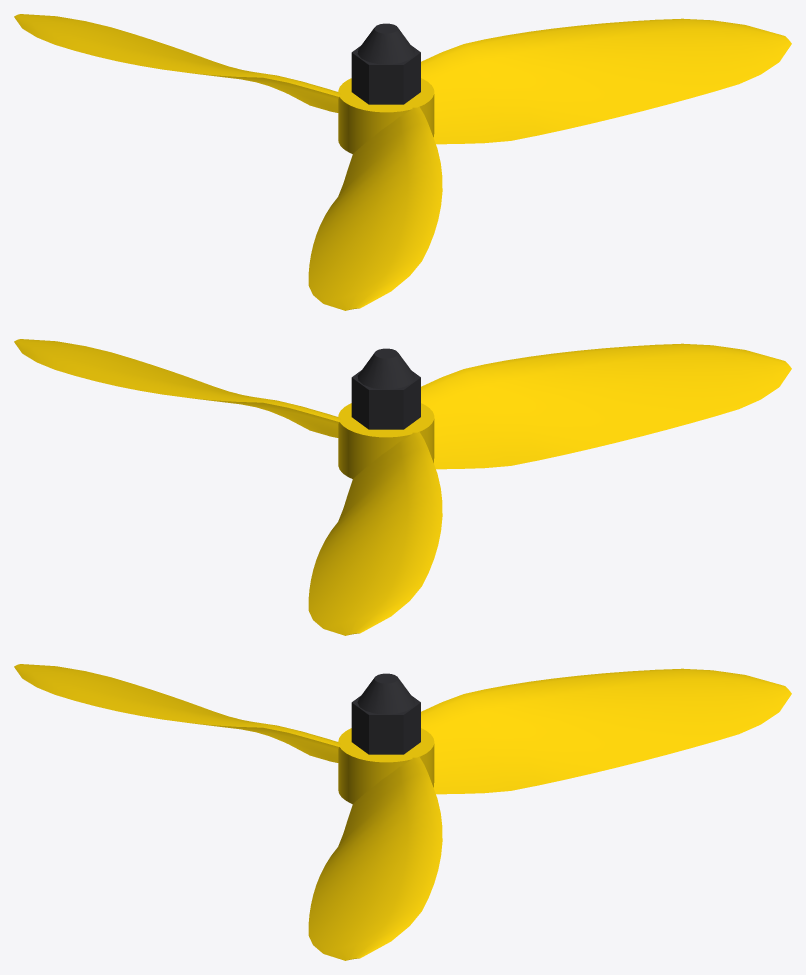
The model's file is prop_4024_3b.glb.
3 views of the same model, one above another, from view 1: azimuth 30°, elevation 25°; view 2: azimuth 150°, elevation 25°; view 3: azimuth 270°, elevation 25° (orthographic).
Visible parts, largest first — view 1: prop_4024_3b_M_Prop_4024_3b, prop_4024_3b_M_Nut; view 2: prop_4024_3b_M_Prop_4024_3b, prop_4024_3b_M_Nut; view 3: prop_4024_3b_M_Prop_4024_3b, prop_4024_3b_M_Nut.
Part boxes in pixels (bbox=[...]): prop_4024_3b_M_Prop_4024_3b: bbox=[14, 14, 791, 310]; prop_4024_3b_M_Nut: bbox=[351, 23, 420, 104]; prop_4024_3b_M_Prop_4024_3b: bbox=[14, 339, 791, 635]; prop_4024_3b_M_Nut: bbox=[351, 348, 420, 429]; prop_4024_3b_M_Prop_4024_3b: bbox=[14, 664, 791, 960]; prop_4024_3b_M_Nut: bbox=[351, 673, 420, 754].
Size of the model in its own units: 0.0809 by 0.015 by 0.0888.
